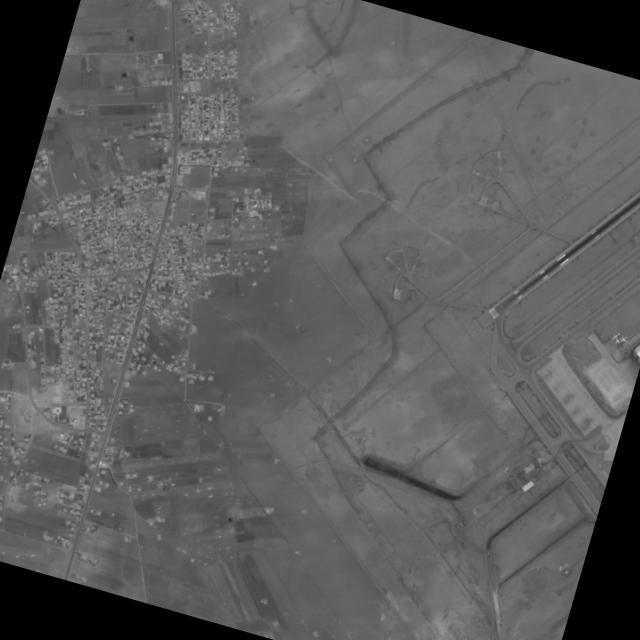plane: (616, 331, 630, 344), (608, 329, 621, 341), (543, 367, 553, 378), (579, 419, 589, 429), (612, 335, 621, 344)
storage-tank: (55, 407, 59, 411)
